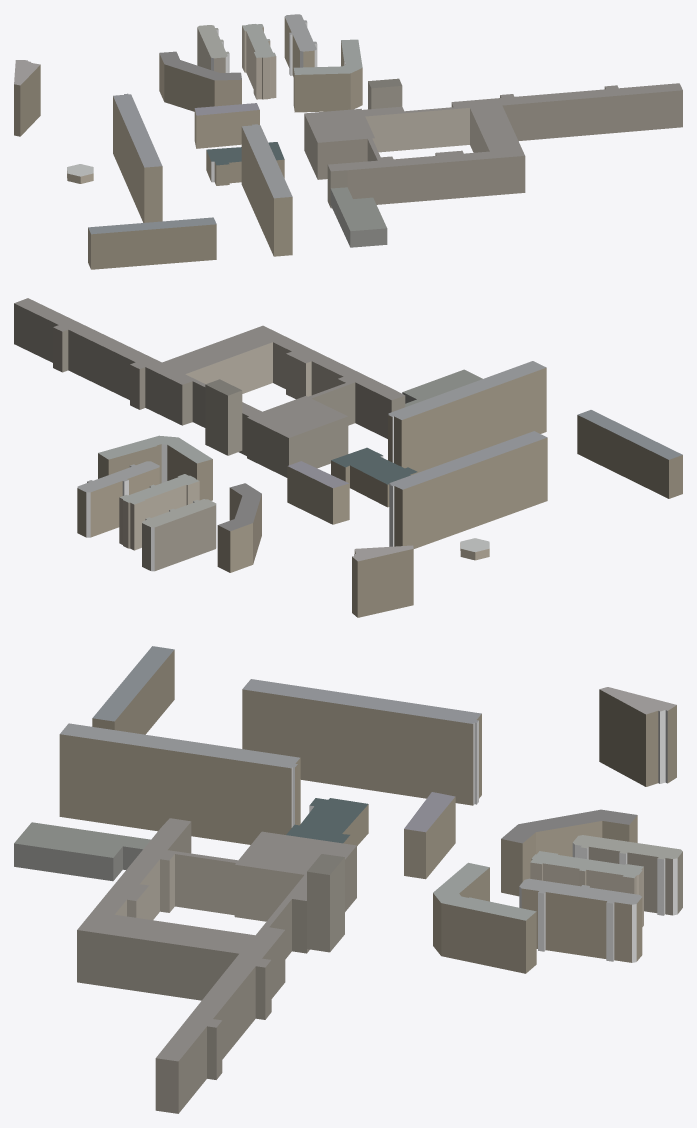
The picture shows the model from 3 angles, top to bottom: view 1: azimuth 30°, elevation 25°; view 2: azimuth 150°, elevation 25°; view 3: azimuth 270°, elevation 25°; orthographic projection. The views are drawn at different scales.
Parts seen in each view (by area): view 1: tuile; view 2: tuile; view 3: tuile.
Boxes of the visible parts, bbox=[...] form: tuile: bbox=[14, 14, 682, 269]; tuile: bbox=[14, 298, 682, 617]; tuile: bbox=[14, 646, 682, 1113].
Size of the model in its own units: 381 by 36.97 by 261.
